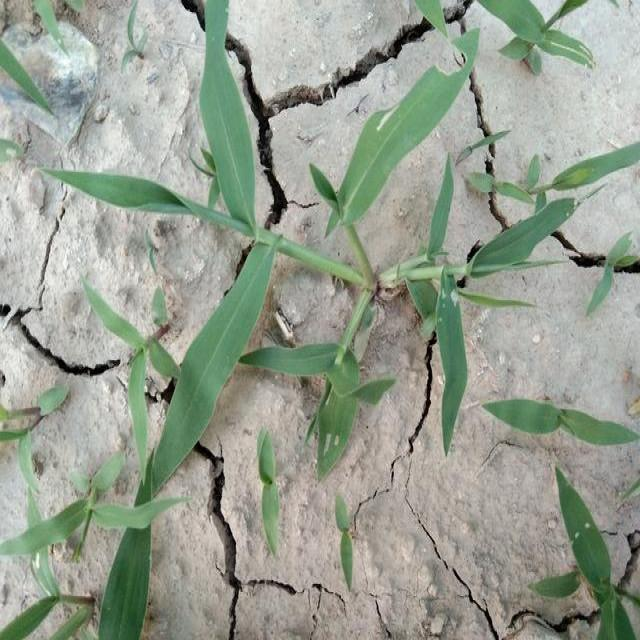weed: (48, 0, 577, 377), (340, 113, 582, 411), (15, 497, 168, 640), (540, 455, 640, 640), (242, 434, 294, 562), (481, 409, 630, 445), (334, 491, 364, 583)
